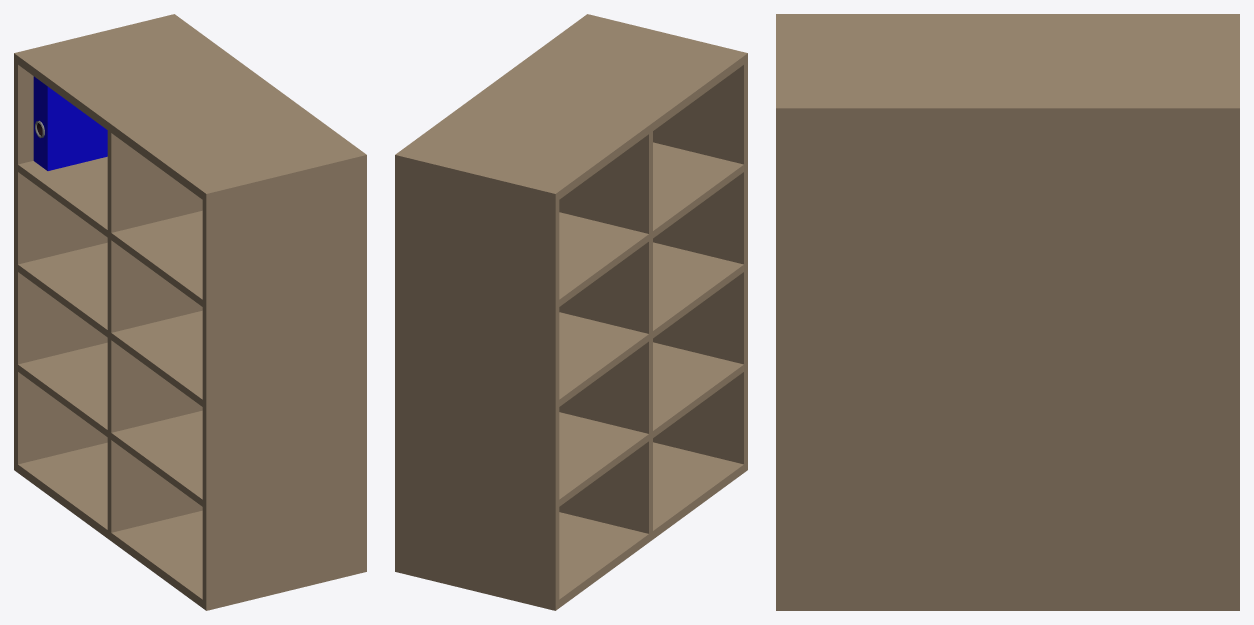
The model's file is TallShelf(new).fbx.
3 renders of one model, left to right at view 1: azimuth 30°, elevation 25°; view 2: azimuth 150°, elevation 25°; view 3: azimuth 270°, elevation 25°, orthographic. The views are drawn at different scales.
Visible parts, largest first — view 1: reol, Cube; view 2: reol; view 3: reol.
Part boxes in pixels (box(x1,y1,x2,y2)): reol: box(14, 14, 366, 610); Cube: box(33, 76, 107, 170); reol: box(395, 14, 747, 610); reol: box(776, 14, 1239, 610).
Bounding box in the file's own units: 84.12 × 209 × 175.
